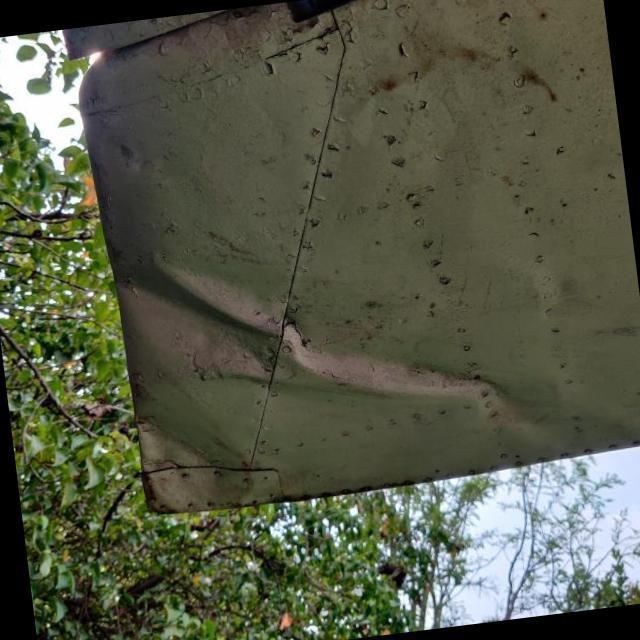Dent: (111, 185, 524, 486), (124, 388, 268, 525)
Rupture: (278, 312, 320, 358)
